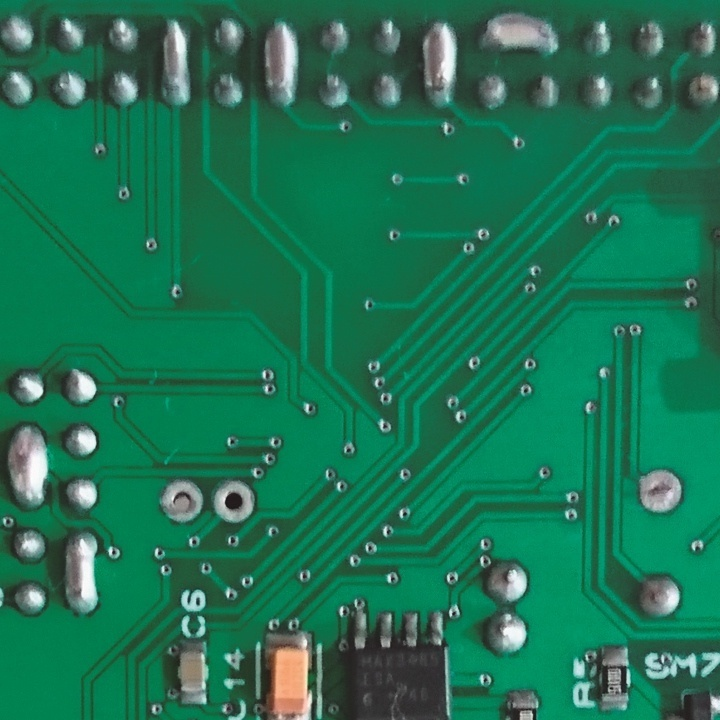F: (636, 466, 690, 517), (210, 480, 257, 526), (158, 478, 205, 523)
P: (473, 8, 564, 57), (259, 18, 304, 116), (3, 423, 52, 509), (62, 526, 103, 620), (157, 16, 196, 112), (419, 17, 459, 110)
